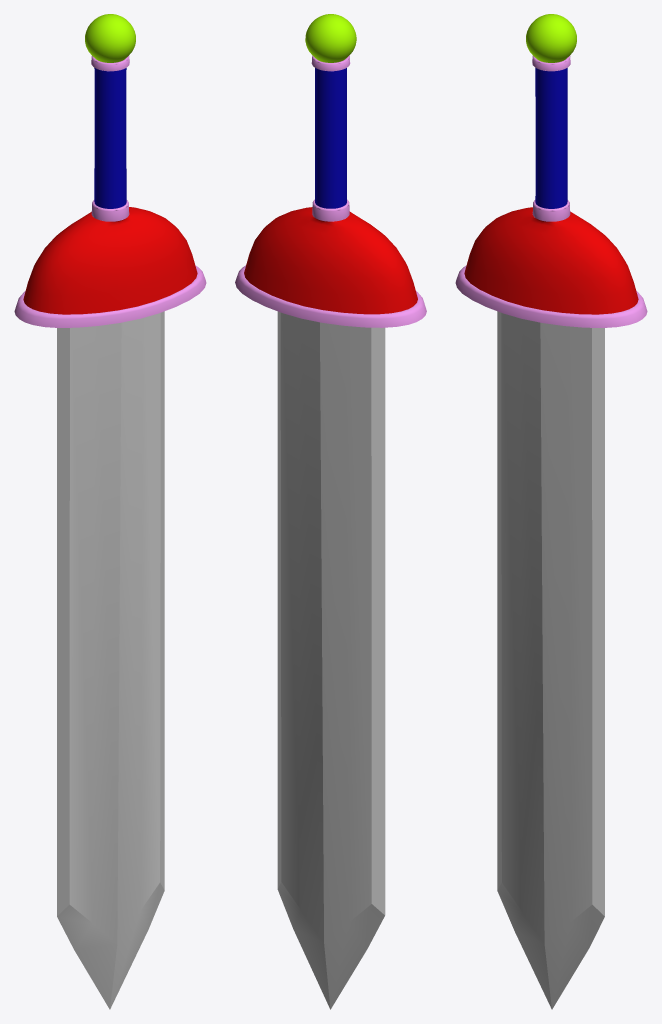
Rendered from espada mejorada.fbx.
The picture shows the model from 3 angles, left to right: view 1: azimuth 30°, elevation 25°; view 2: azimuth 150°, elevation 25°; view 3: azimuth 330°, elevation 25°; orthographic projection.
Visible parts, largest first — view 1: Hoja, Empuñadura; view 2: Hoja, Empuñadura; view 3: Hoja, Empuñadura.
Part boxes in pixels (<box>): Hoja: <box>57,311,164,1009</box>; Empuñadura: <box>14,14,206,327</box>; Hoja: <box>277,311,385,1009</box>; Empuñadura: <box>235,14,426,327</box>; Hoja: <box>497,311,604,1009</box>; Empuñadura: <box>455,14,647,327</box>.
Bounding box in the file's own units: 13.09 × 68.29 × 7.37.
